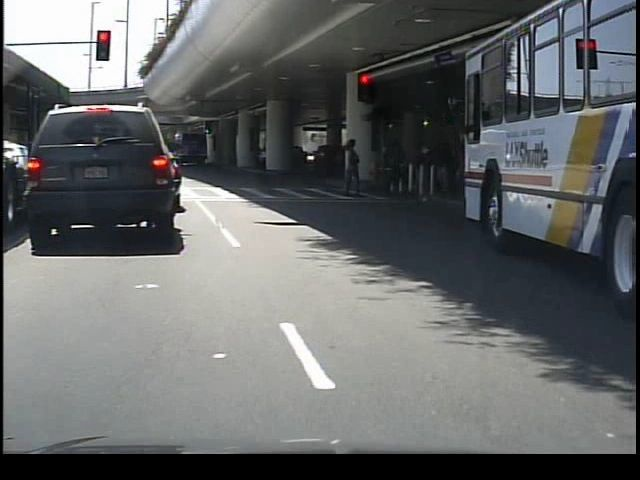person: (336, 136, 367, 199), (385, 139, 411, 194)
